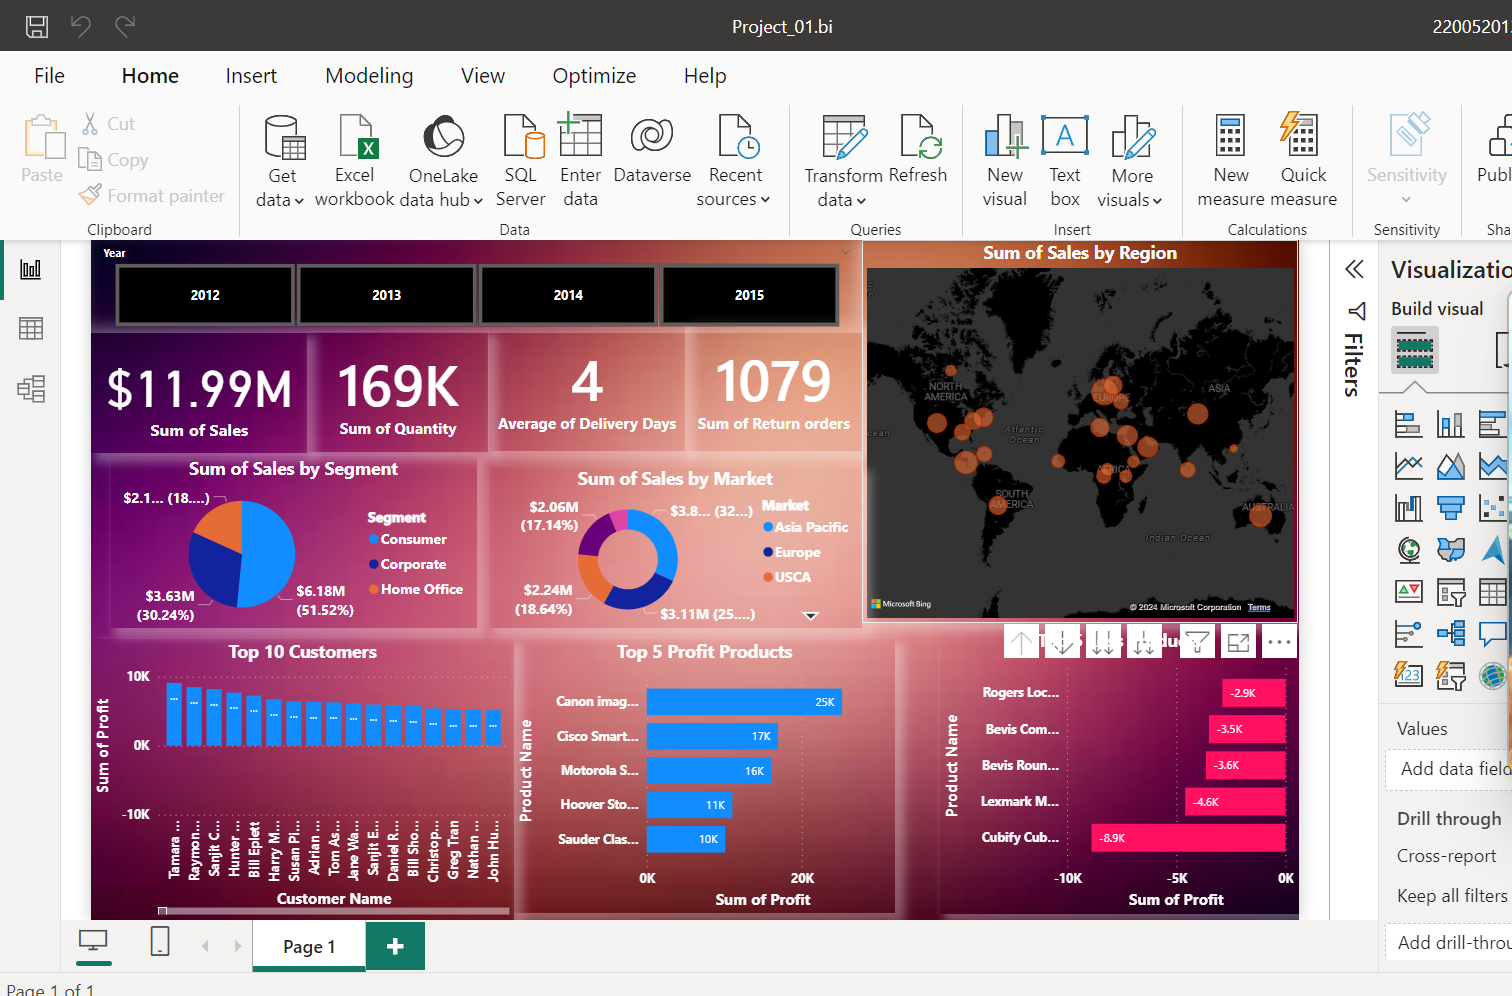

This screenshot's page, from the dashboard's own definition file:
{"tool":"powerbi","page":{"name":"Page 1","canvas":[1280,720],"ordinal":0},"visuals":[{"type":"card","fields":{"Values":["Orders.Sales"]},"box":[0,98.5,228.9,127.2],"z":0},{"type":"card","fields":{"Values":["Orders.Quantity"]},"box":[228.9,97,192.3,127.2],"z":1000},{"type":"card","fields":{"Values":["Orders.Delivery Days"]},"box":[421.2,85.8,208.2,138.3],"z":2000},{"type":"slicer","fields":{"Values":["Orders.Year"]},"box":[0,0,817,98.5],"z":3000},{"type":"card","fields":{"Values":["Returns.Return orders"]},"box":[629.4,85.8,187.5,138.3],"z":4000},{"type":"map","fields":{"Category":["Orders.Region","Orders.Country"],"Size":["Orders.Sales"]},"box":[817,0,462.5,405.3],"z":5000},{"type":"barChart","title":"Top 5 Profit Products","fields":{"Category":["Orders.Product Name"],"Y":["Orders.Profit"]},"box":[448.2,422.8,403.7,290.9],"z":6000},{"type":"barChart","title":"Top 5 Loss Products","fields":{"Category":["Orders.Product Name"],"Y":["Orders.Profit"]},"box":[899.6,411.7,379.9,302],"z":7000},{"type":"pieChart","fields":{"Category":["Orders.Segment"],"Y":["Orders.Sales"]},"box":[20.7,228.9,387.8,182.8],"z":8000},{"type":"donutChart","fields":{"Category":["Orders.Market"],"Y":["Orders.Sales"]},"box":[421.2,240,395.8,171.7],"z":9000},{"type":"columnChart","title":"Top 10 Customers","fields":{"Y":["Orders.Profit"],"Category":["Orders.Customer Name"]},"box":[0,422.8,448.2,297.2],"z":10000}]}

Visuals, with their boxes on the page's 1280x720 design canvas (x1, y1, x2, y2). These are canvas units, not pixel positions in the 1512x996 screenshot, which may show the page scaled, cropped or inside an application window:
card - Orders.Sales: (0,98,229,226)
card - Orders.Quantity: (229,97,421,224)
card - Orders.Delivery Days: (421,86,629,224)
slicer - Orders.Year: (0,0,817,98)
card - Returns.Return orders: (629,86,817,224)
map - Orders.Region x Orders.Country: (817,0,1280,405)
"Top 5 Profit Products" barChart: (448,423,852,714)
"Top 5 Loss Products" barChart: (900,412,1280,714)
pieChart - Orders.Segment x Orders.Sales: (21,229,408,412)
donutChart - Orders.Market x Orders.Sales: (421,240,817,412)
"Top 10 Customers" columnChart: (0,423,448,720)
